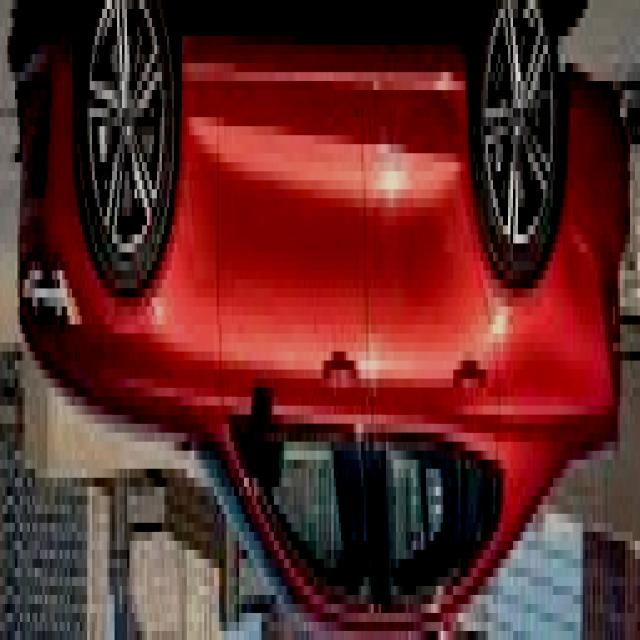red: (14, 0, 620, 640)
